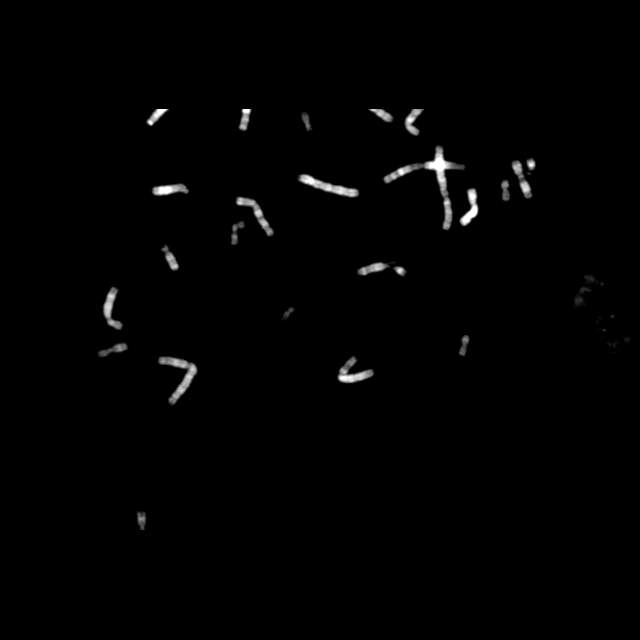chromosome: (158, 356, 196, 404), (384, 161, 464, 183), (236, 198, 274, 236), (299, 175, 359, 198), (436, 146, 452, 230), (338, 356, 374, 382), (103, 287, 123, 329), (512, 160, 532, 198), (459, 188, 478, 226), (406, 107, 424, 135), (358, 262, 390, 276), (152, 184, 188, 196), (162, 244, 178, 270), (98, 343, 126, 357), (232, 222, 244, 244), (458, 335, 469, 357), (240, 108, 250, 130), (282, 306, 296, 320), (301, 114, 313, 130), (136, 512, 146, 530), (502, 182, 511, 200), (394, 266, 408, 276), (528, 158, 536, 170)
